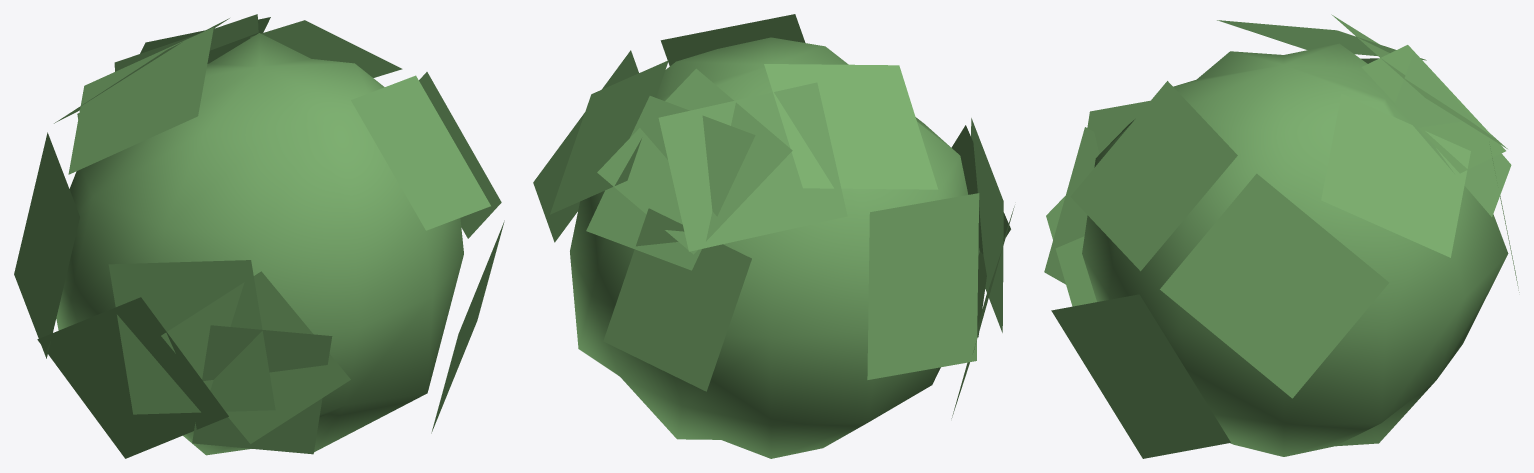
File: shrub_box.glb
3 views of the same model, side by side, from view 1: azimuth 30°, elevation 25°; view 2: azimuth 150°, elevation 25°; view 3: azimuth 270°, elevation 25° (orthographic).
Visible parts, largest first — view 1: shrub_box; view 2: shrub_box; view 3: shrub_box.
Part boxes in pixels (x1=…): shrub_box: x1=14, y1=14, x2=504, y2=458; shrub_box: x1=533, y1=14, x2=1014, y2=458; shrub_box: x1=1044, y1=14, x2=1519, y2=458.
Size of the model in its own units: 0.7144 by 0.6402 by 0.6859.
